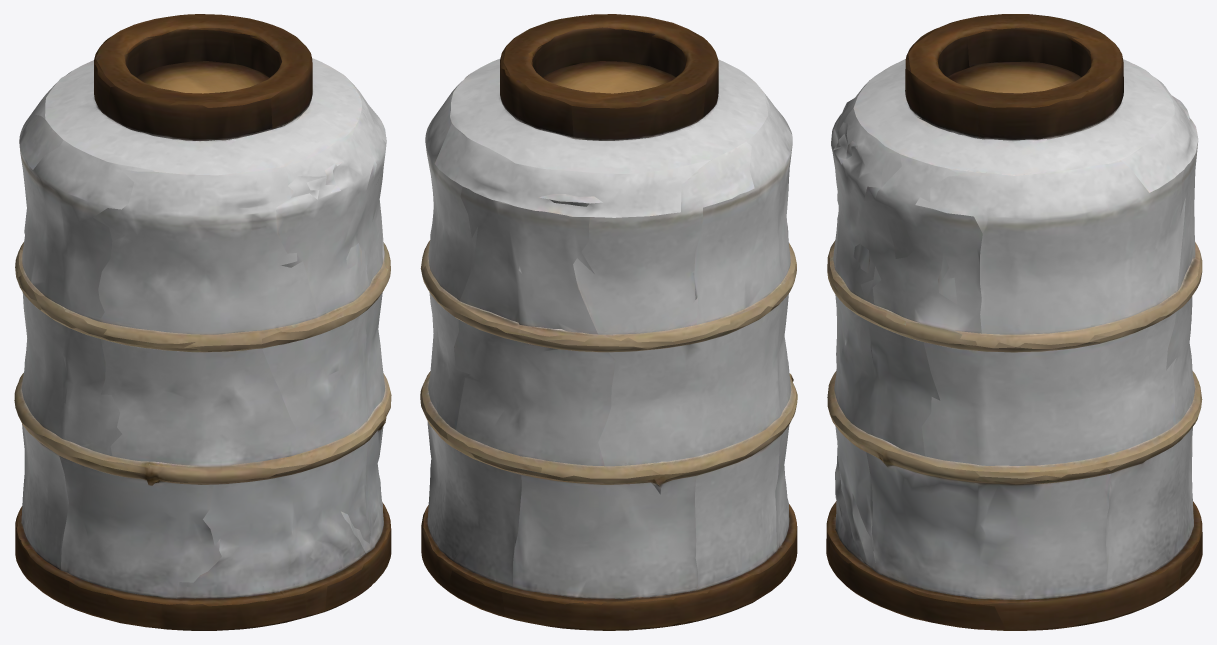
File: S0-15_paper_lantern_A.glb
3 views of the same model, side by side, from view 1: azimuth 30°, elevation 25°; view 2: azimuth 150°, elevation 25°; view 3: azimuth 270°, elevation 25° (orthographic).
Parts seen in each view (by area): view 1: geometry_0; view 2: geometry_0; view 3: geometry_0.
Part boxes in pixels (<box>): geometry_0: <box>14,14,391,630</box>; geometry_0: <box>420,14,797,630</box>; geometry_0: <box>826,14,1202,630</box>.
Bounding box in the file's own units: 0.3602 × 0.55 × 0.3602.
1 material, 1 textured.
